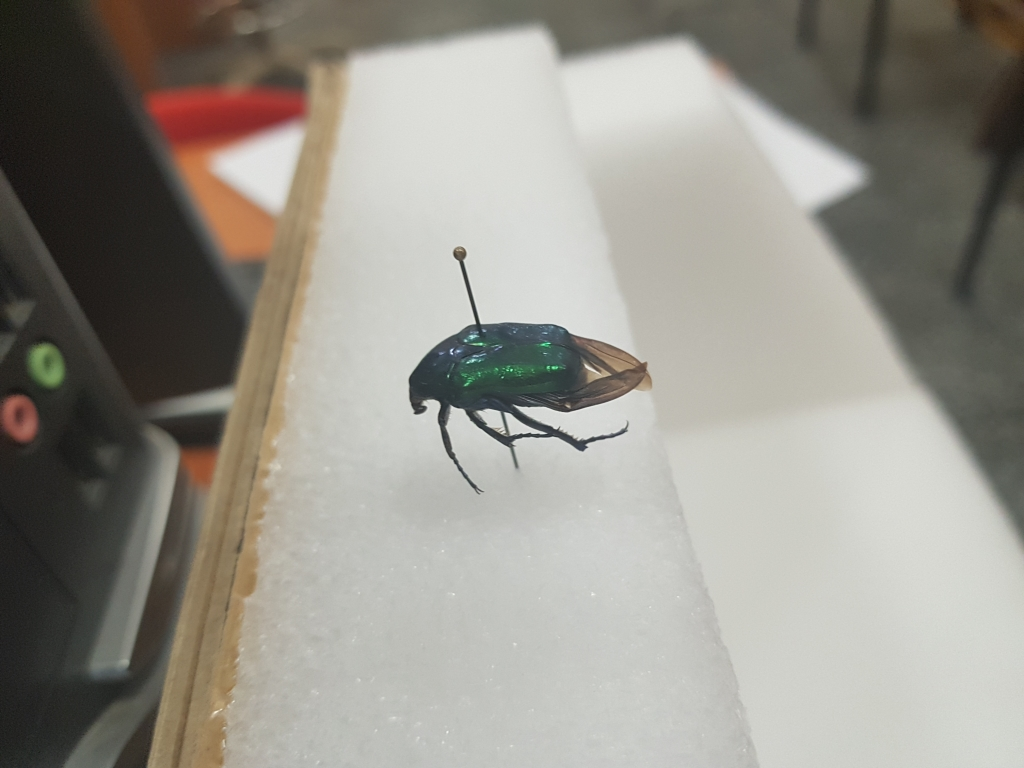Protaetia_angustata_angustata: (402, 314, 675, 495)
